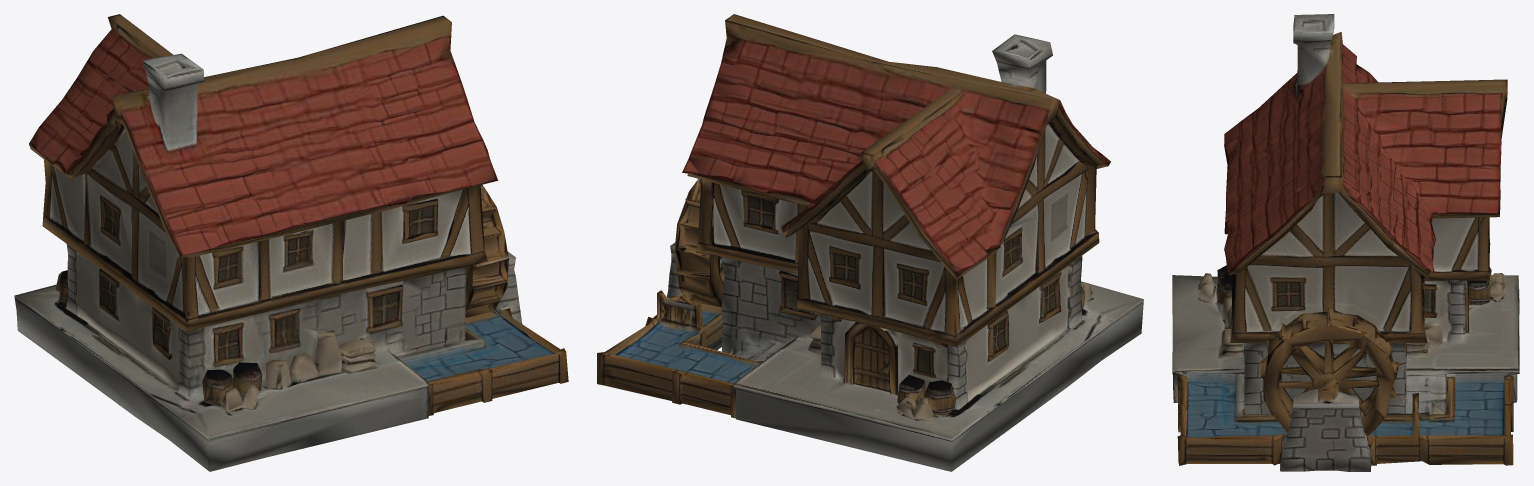
File: mill.glb
3 renders of one model, left to right at view 1: azimuth 30°, elevation 25°; view 2: azimuth 150°, elevation 25°; view 3: azimuth 270°, elevation 25°, orthographic. The views are drawn at different scales.
Visible parts, largest first — view 1: MillShell; view 2: MillShell; view 3: MillShell.
Boxes of the visible parts, bbox=[...] form: MillShell: bbox=[14, 14, 568, 471]; MillShell: bbox=[597, 14, 1143, 471]; MillShell: bbox=[1172, 14, 1519, 471].
Size of the model in its own units: 1 by 0.8621 by 0.8908.
Materials: 1 (1 with a texture image).
